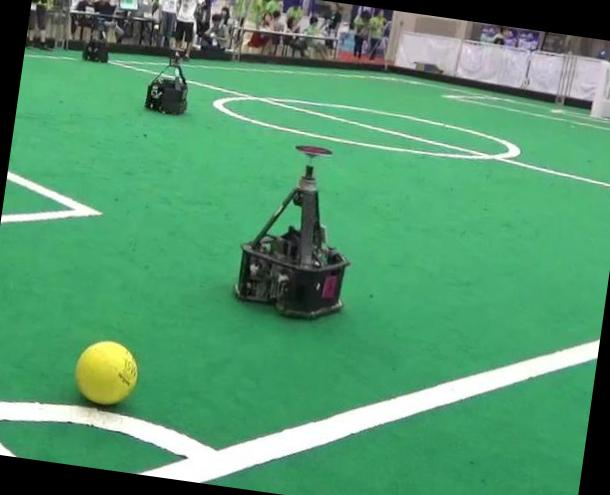ball: (75, 340, 138, 404)
goal: (591, 61, 610, 118)
robot: (236, 165, 349, 317), (145, 52, 188, 114), (82, 39, 108, 61)
